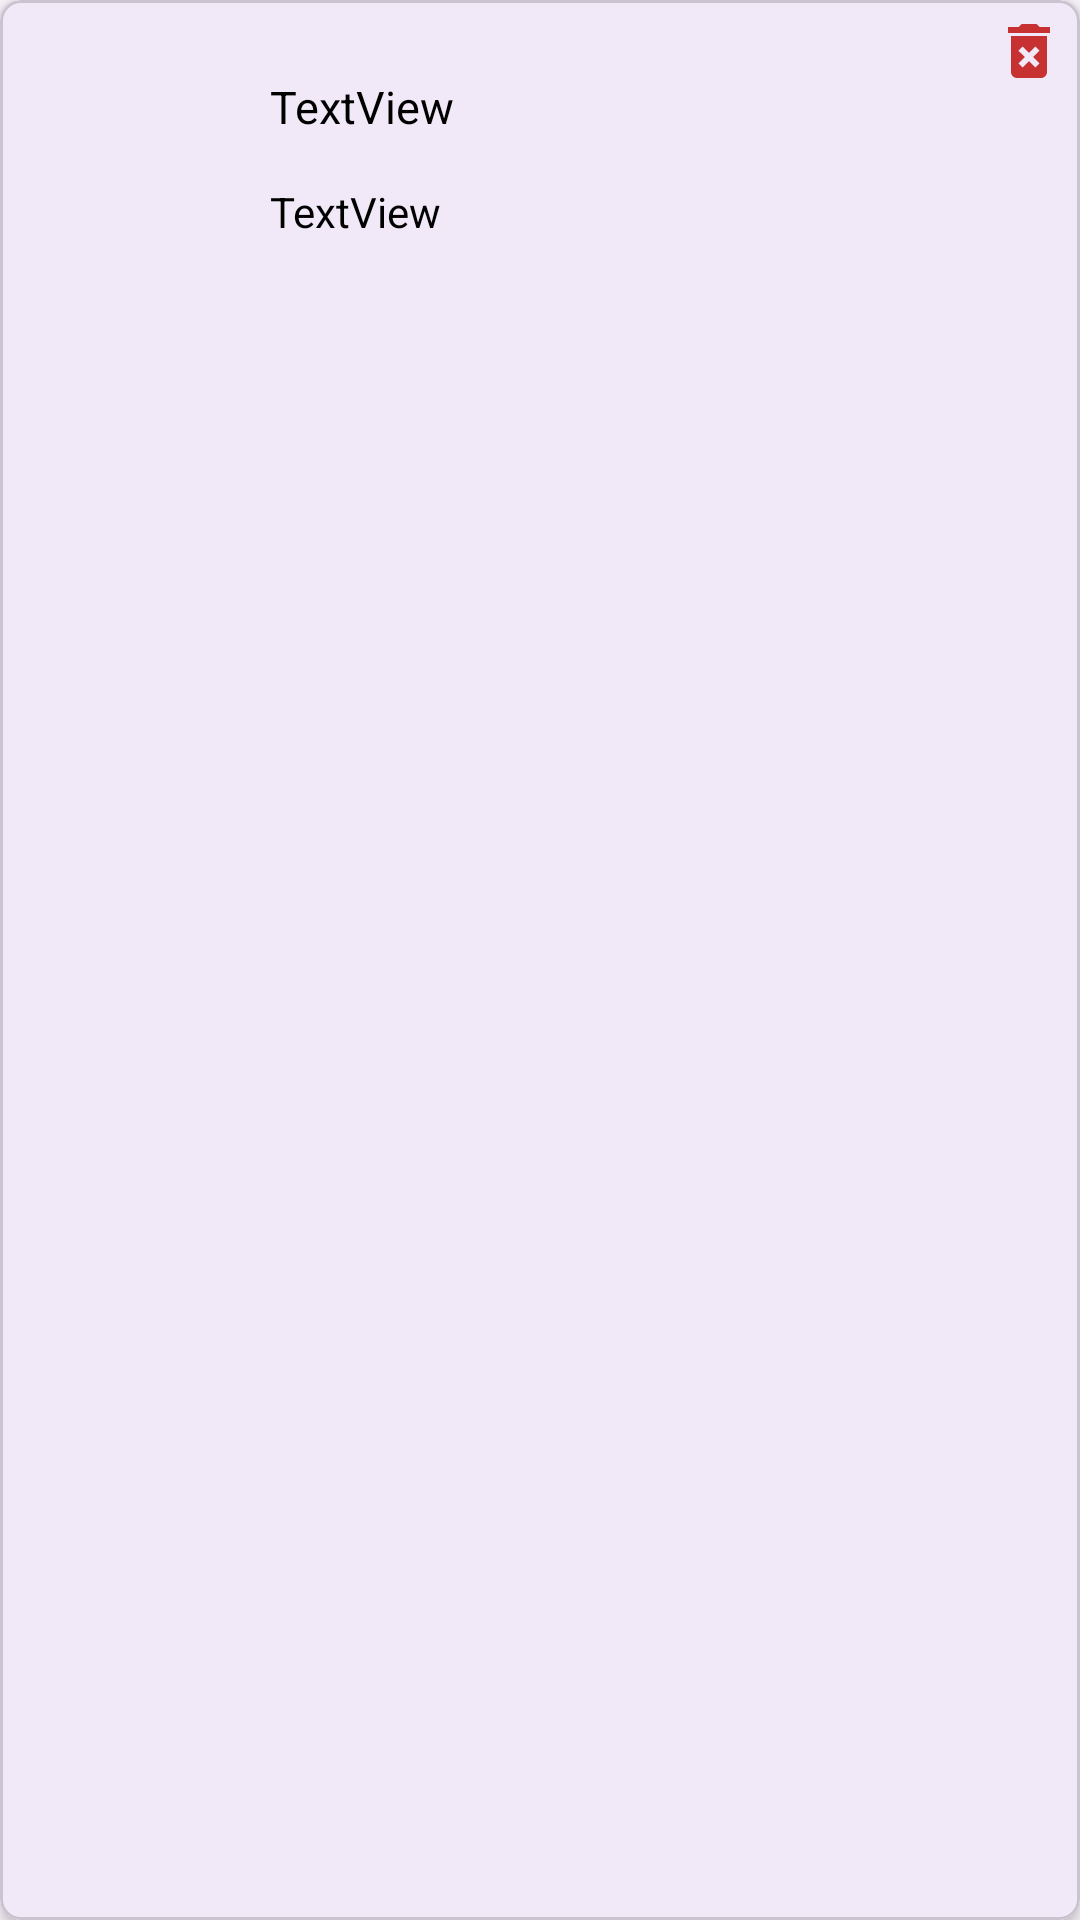

Screen size 1080 × 1920. Icon name, then its center in pixels as (x,y):
delete: (1029,51)
